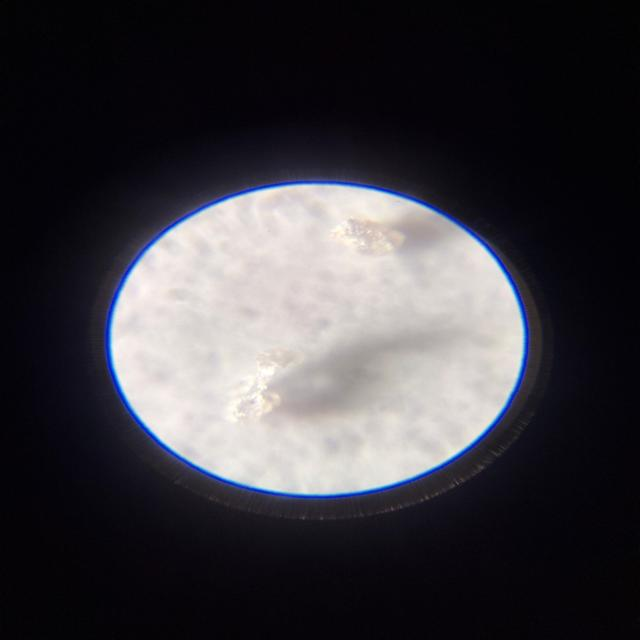microplastic_type_1: (224, 346, 305, 423), (329, 217, 406, 258)
